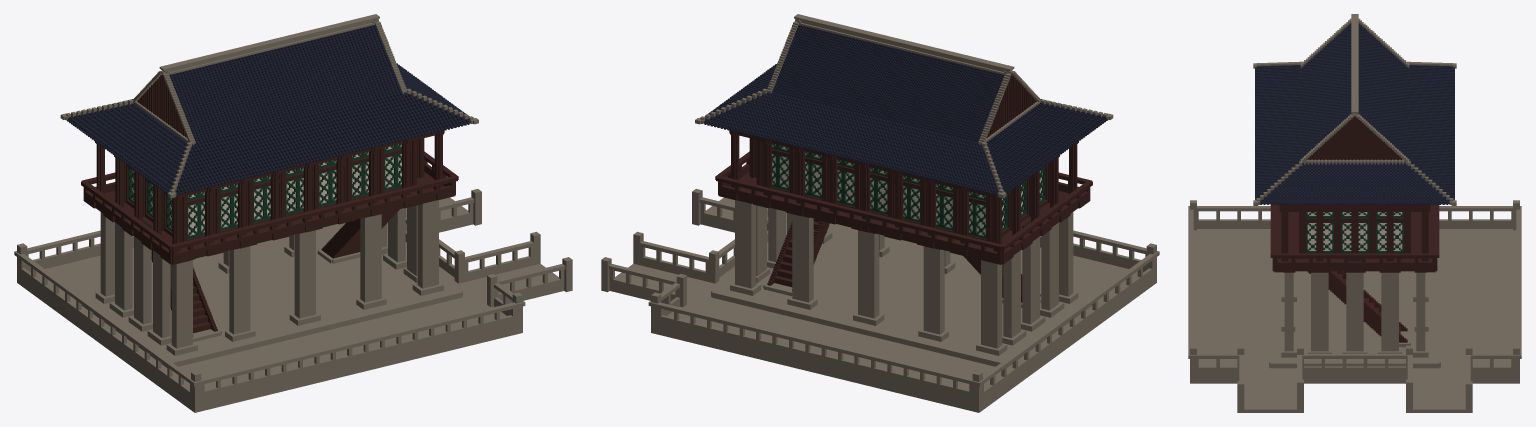
The model's file is Korean castle_house_05.FBX.
3 renders of one model, left to right at view 1: azimuth 30°, elevation 25°; view 2: azimuth 150°, elevation 25°; view 3: azimuth 270°, elevation 25°, orthographic. The views are drawn at different scales.
Visible parts, largest first — view 1: Voxel_Korean_traditional castle-23; view 2: Voxel_Korean_traditional castle-23; view 3: Voxel_Korean_traditional castle-23.
Boxes of the visible parts, left/top/right/bottom form: Voxel_Korean_traditional castle-23: left=14, top=14, right=572, bottom=412; Voxel_Korean_traditional castle-23: left=601, top=14, right=1159, bottom=412; Voxel_Korean_traditional castle-23: left=1188, top=14, right=1521, bottom=412.
Size of the model in its own units: 494 by 310 by 380.
Materials: 1 (1 with a texture image).
